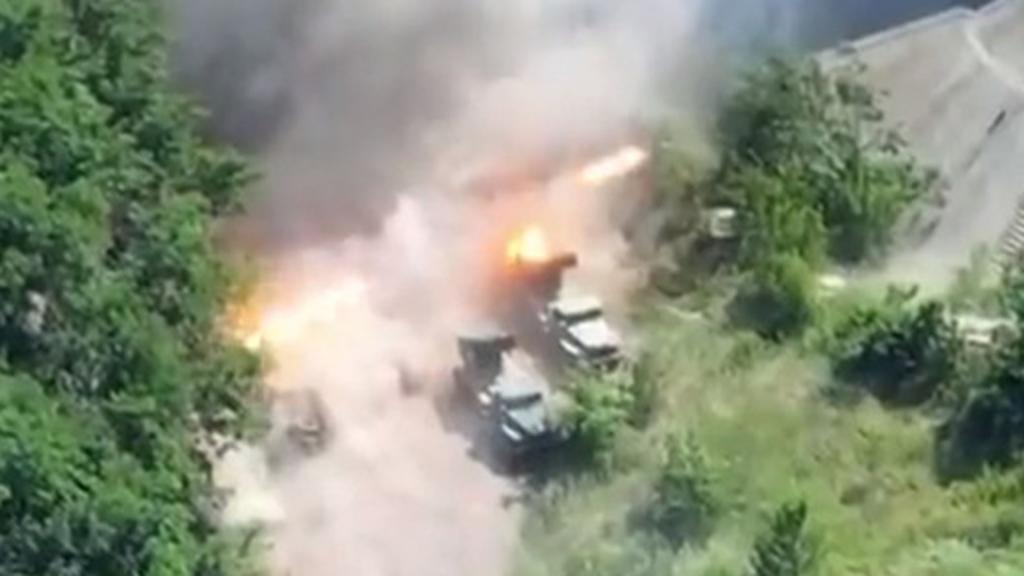MLRS: (488, 220, 624, 370), (442, 324, 578, 462)
